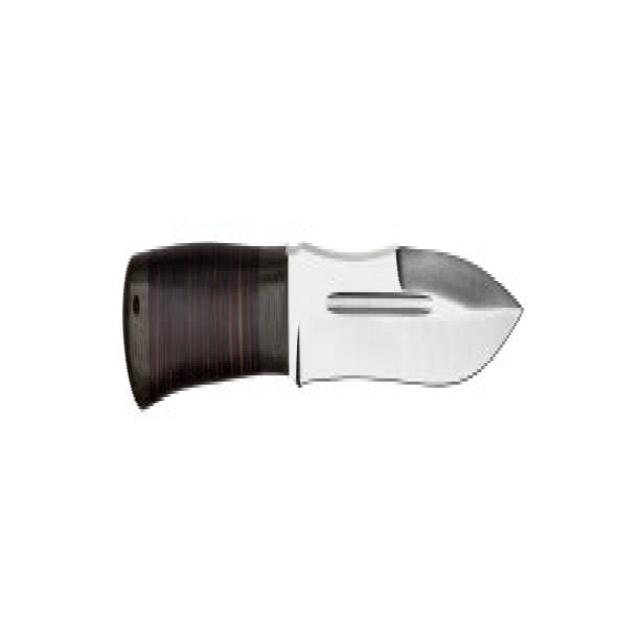knife: (116, 216, 536, 432)
